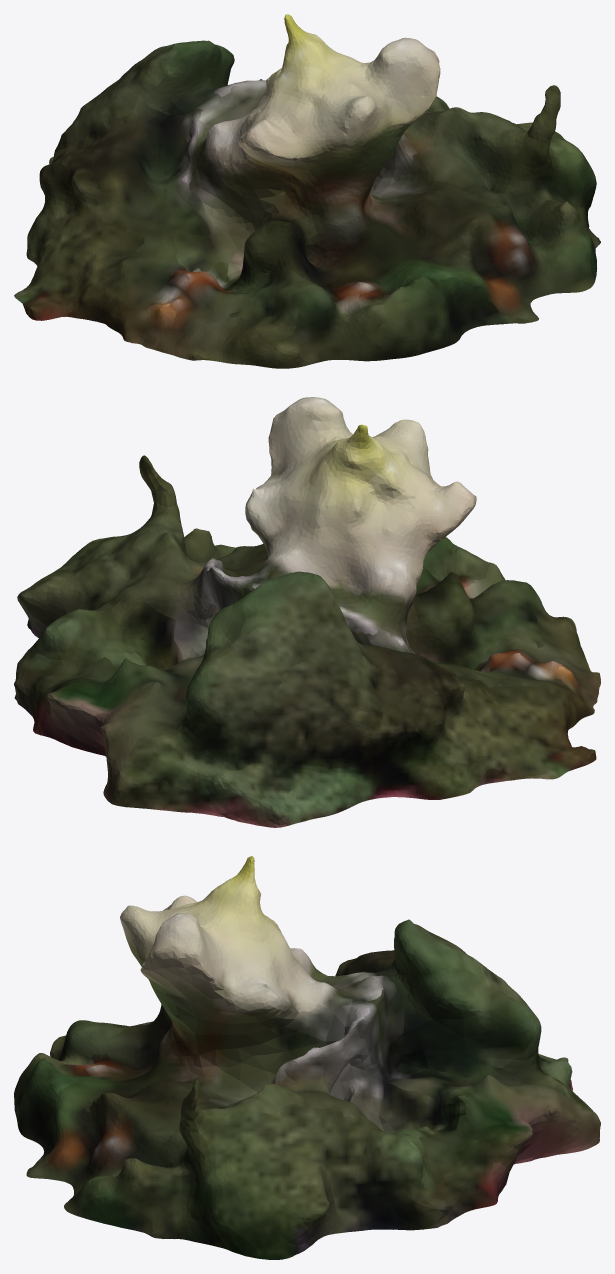
The model's file is fae_ruin.obj.
3 views of the same model, one above another, from view 1: azimuth 30°, elevation 25°; view 2: azimuth 150°, elevation 25°; view 3: azimuth 270°, elevation 25° (orthographic). The views are drawn at different scales.
Visible parts, largest first — view 1: mesh; view 2: mesh; view 3: mesh.
Part boxes in pixels (<box>): mesh: <box>14,14,600,368</box>; mesh: <box>14,397,600,827</box>; mesh: <box>14,856,600,1259</box>.
Bounding box in the file's own units: 0.1505 × 0.0669 × 0.1402.
Materials: 1 (1 with a texture image).
